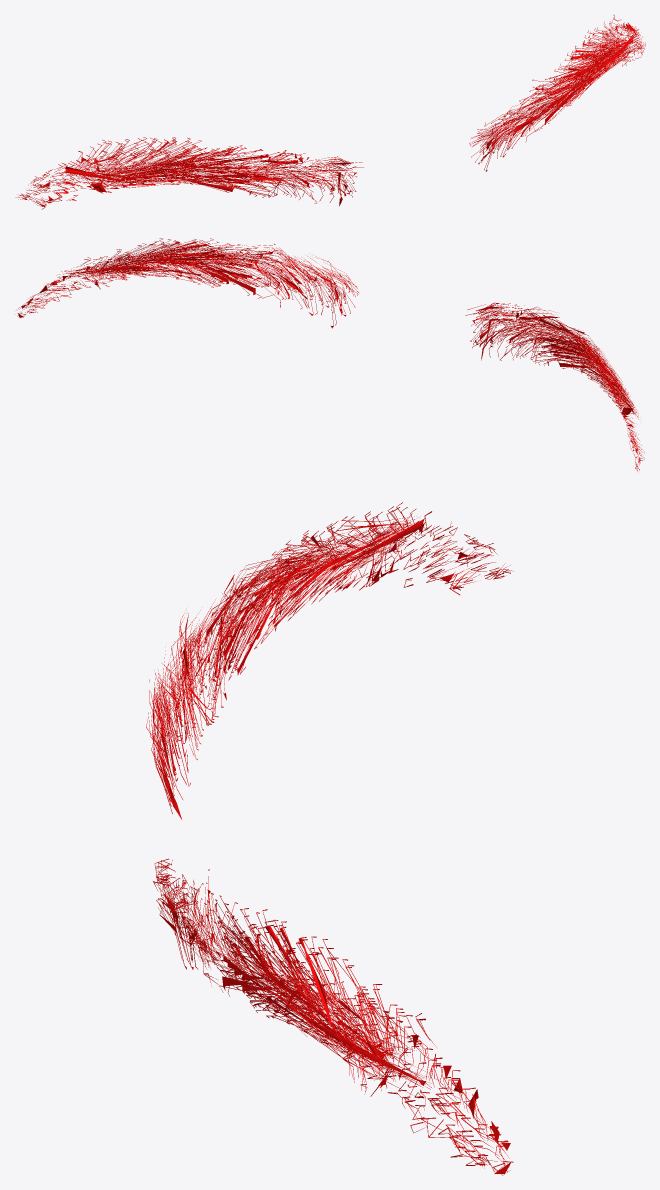
The model's file is mindfront_eyebrows_13_M.glb.
3 views of the same model, one above another, from view 1: azimuth 30°, elevation 25°; view 2: azimuth 150°, elevation 25°; view 3: azimuth 270°, elevation 25° (orthographic). The views are drawn at different scales.
Bounding box in the file's own units: 0.1196 × 0.0151 × 0.0304.
1 material, 1 textured.
